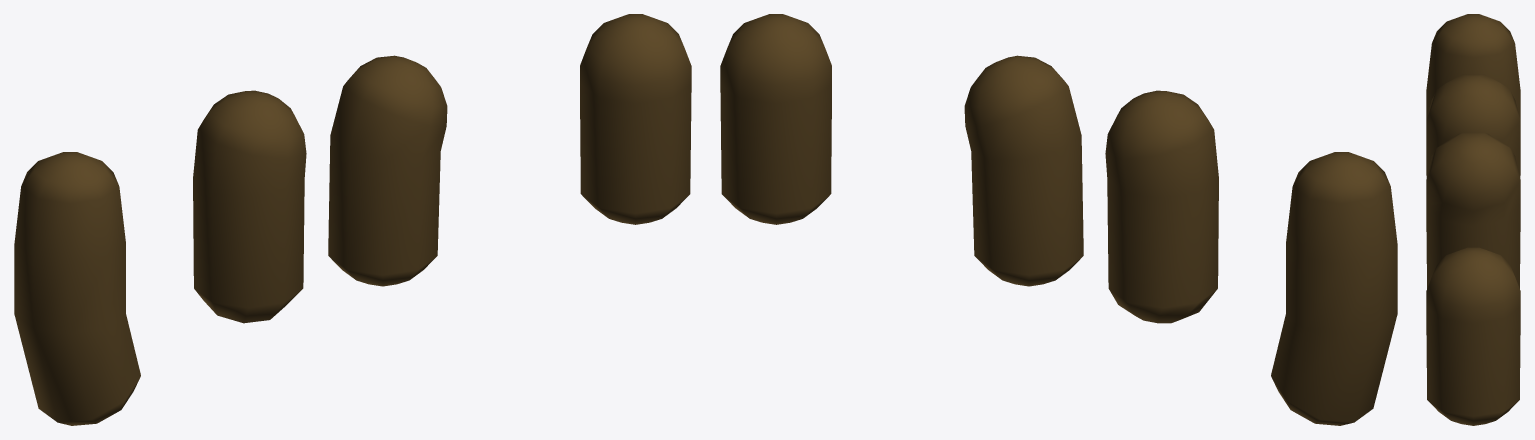
File: Geo_catPoop_high.fbx
The picture shows the model from 3 angles, left to right: view 1: azimuth 30°, elevation 25°; view 2: azimuth 150°, elevation 25°; view 3: azimuth 270°, elevation 25°; orthographic projection. The views are drawn at different scales.
Parts seen in each view (by area): view 1: pSphere4, pSphere3, pSphere2, pSphere1; view 2: pSphere4, pSphere3, pSphere2, pSphere1; view 3: pSphere1, pSphere2, pSphere3, pSphere4.
Part boxes in pixels (x1,y1,x2,y2): pSphere4: (14, 152, 140, 425); pSphere3: (193, 90, 306, 323); pSphere2: (328, 55, 447, 286); pSphere1: (580, 14, 691, 224); pSphere4: (1271, 152, 1397, 425); pSphere3: (1105, 90, 1218, 323); pSphere2: (964, 55, 1083, 286); pSphere1: (720, 14, 831, 224); pSphere1: (1426, 247, 1520, 425); pSphere2: (1426, 133, 1520, 288); pSphere3: (1426, 74, 1520, 177); pSphere4: (1426, 14, 1520, 119).
Size of the model in its own units: 2.44 by 0.9963 by 0.3575.
